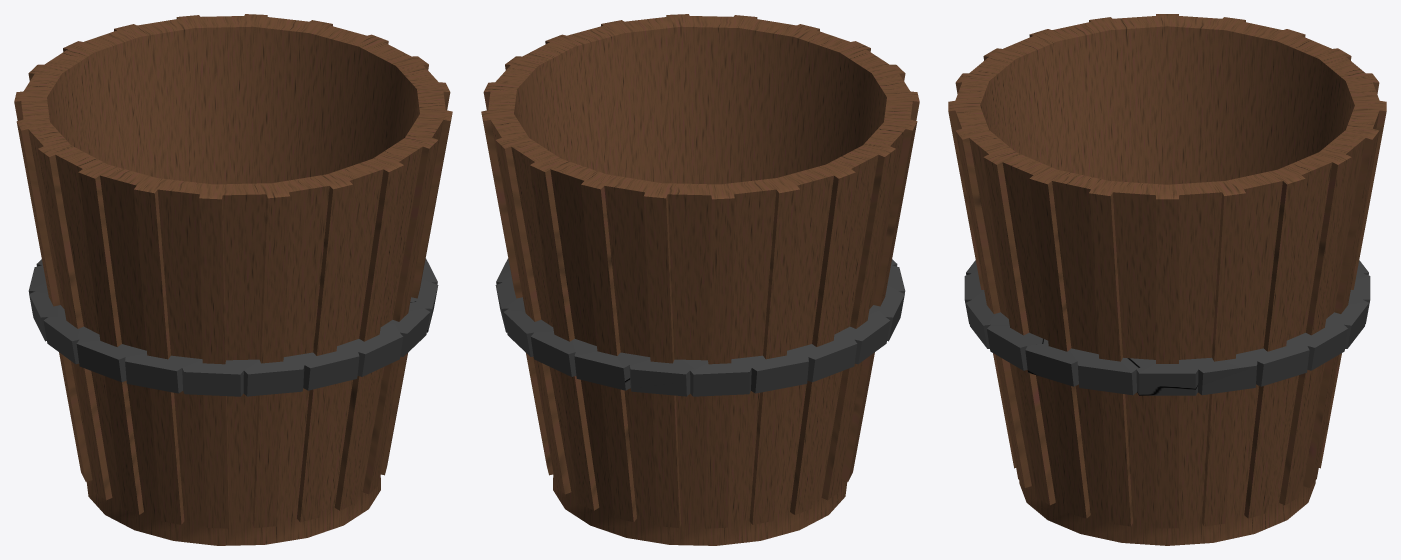
File: Cooling bucket.fbx
The picture shows the model from 3 angles, left to right: view 1: azimuth 30°, elevation 25°; view 2: azimuth 150°, elevation 25°; view 3: azimuth 270°, elevation 25°; orthographic projection.
Parts seen in each view (by area): view 1: pCylinder1; view 2: pCylinder1; view 3: pCylinder1.
Part boxes in pixels (x1=…): pCylinder1: x1=14, y1=14, x2=452, y2=545; pCylinder1: x1=481, y1=14, x2=919, y2=545; pCylinder1: x1=948, y1=14, x2=1386, y2=545.
Size of the model in its own units: 37.87 by 36.02 by 37.87.
2 materials, 2 textured.
